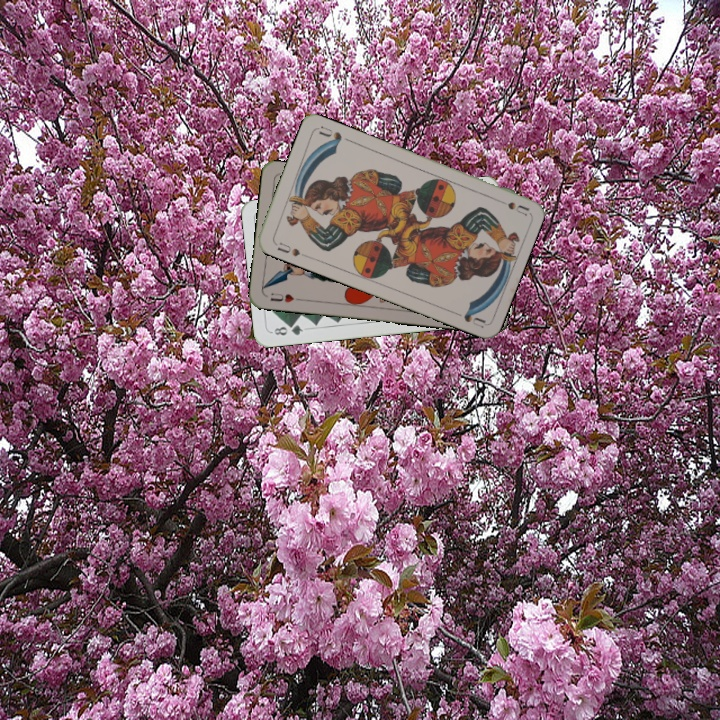G8: (270, 320, 305, 338)
HU: (266, 289, 304, 305)
SU: (490, 194, 530, 218), (271, 238, 309, 260)
